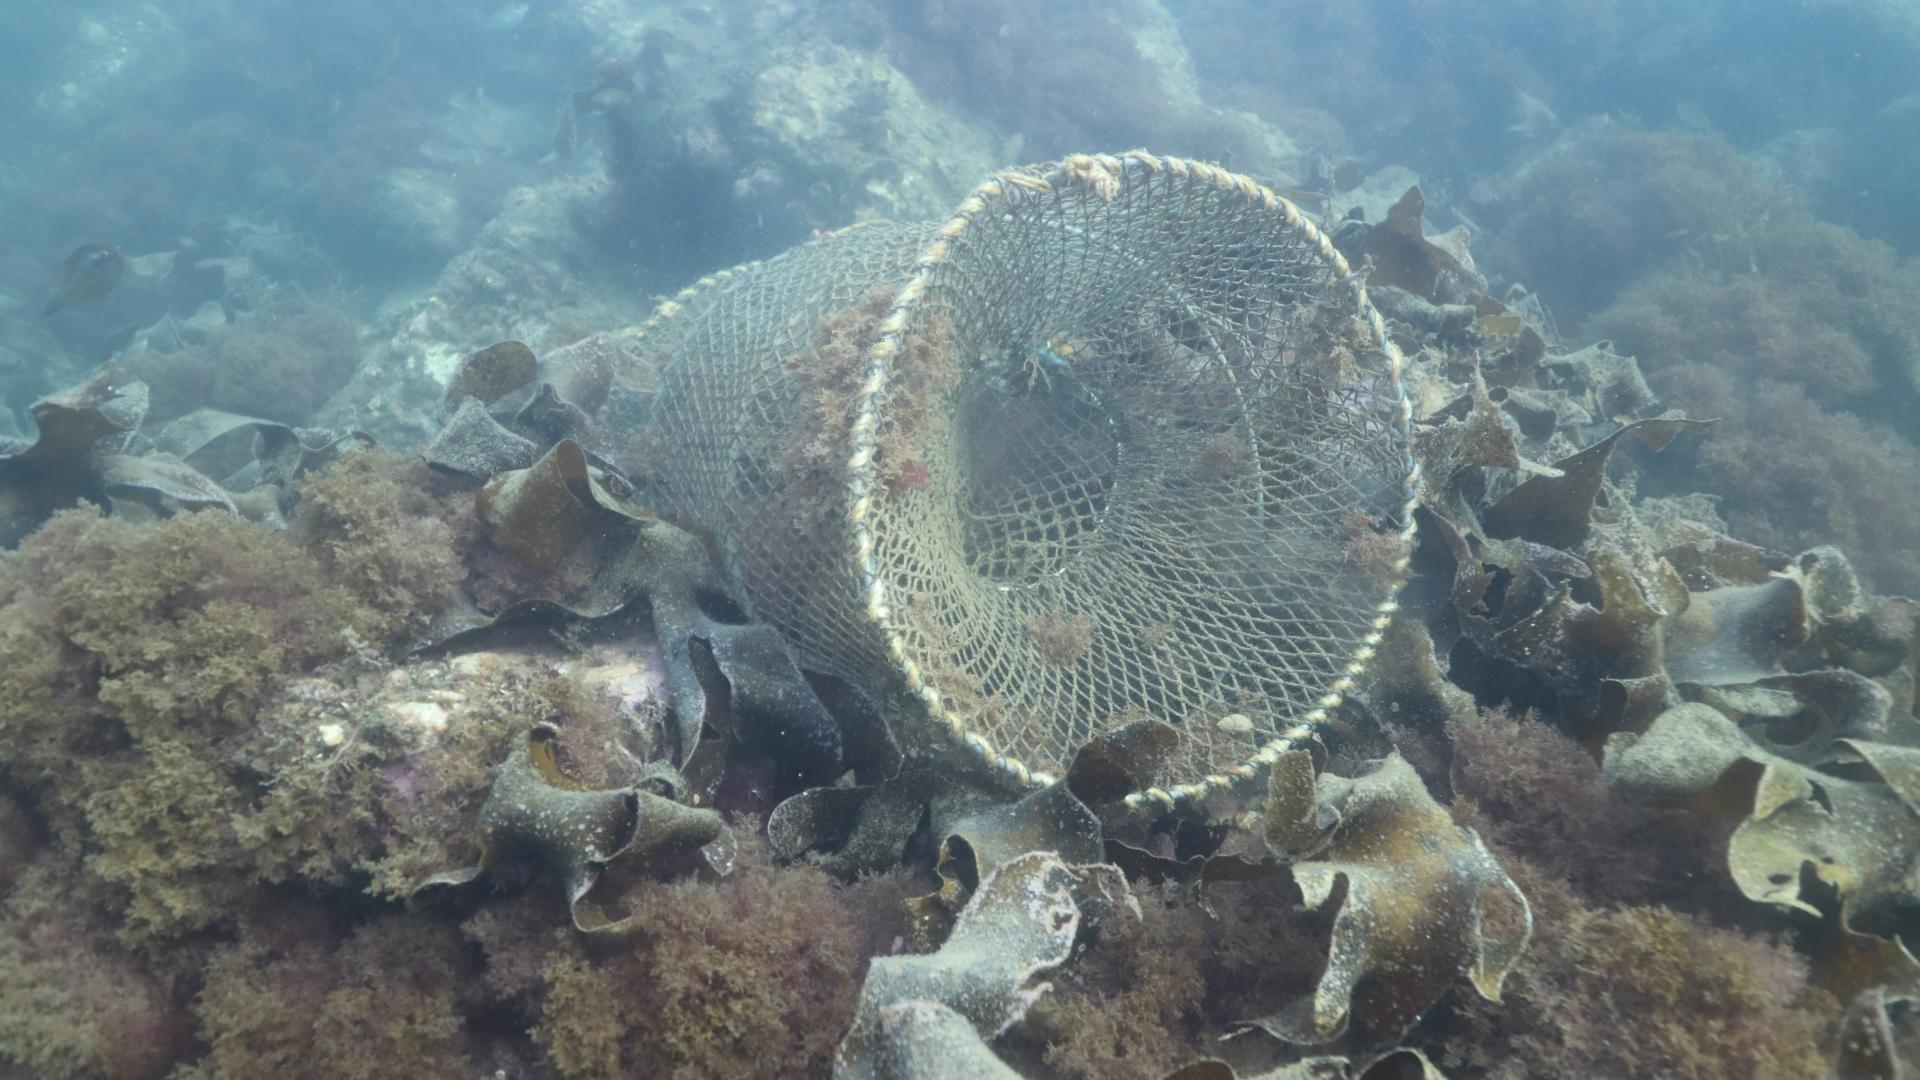spring fish trap: (524, 142, 1422, 808)
